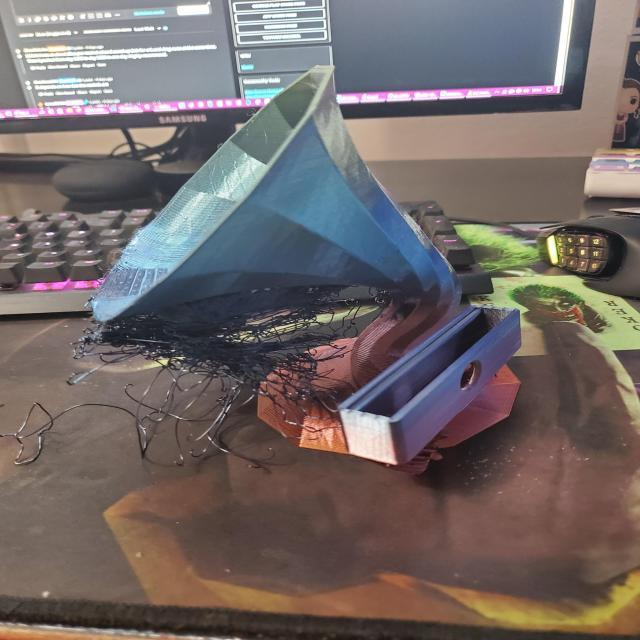Spaghetti: (279, 353, 318, 401), (164, 358, 231, 377)
